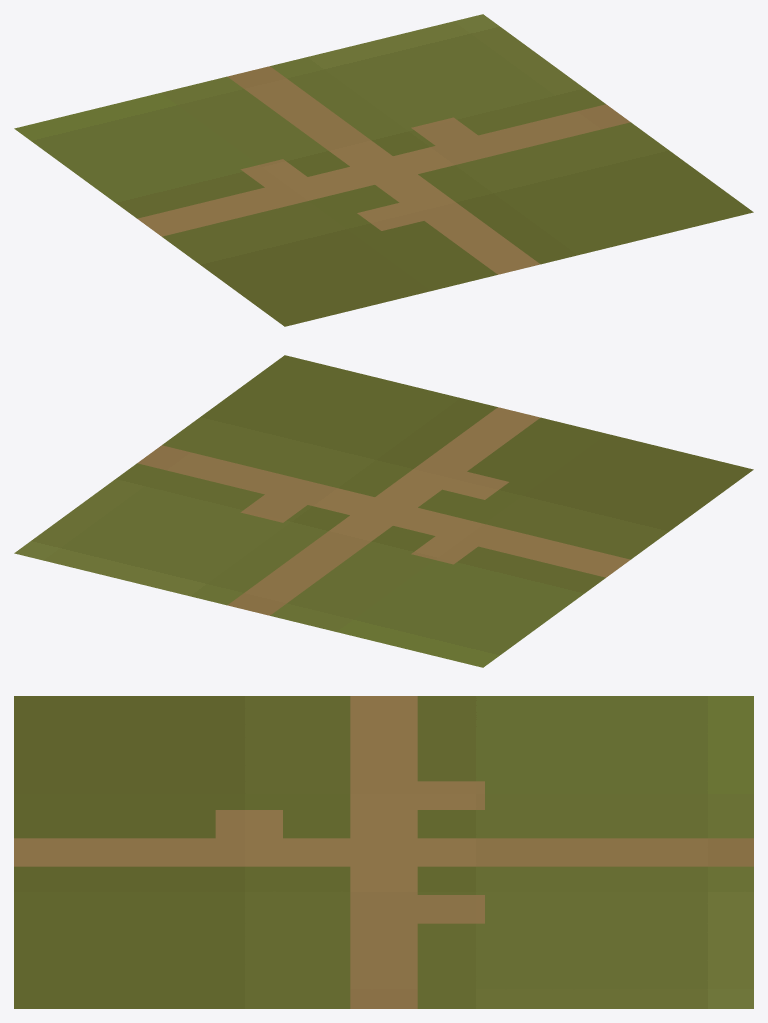
File: PlaceholderTown.fbx
The picture shows the model from 3 angles, top to bottom: view 1: azimuth 30°, elevation 25°; view 2: azimuth 150°, elevation 25°; view 3: azimuth 270°, elevation 25°; orthographic projection. The views are drawn at different scales.
Parts seen in each view (by area): view 1: Plane.001; view 2: Plane.001; view 3: Plane.001.
Boxes of the visible parts, x1=… form: Plane.001: x1=14, y1=14, x2=753, y2=326; Plane.001: x1=14, y1=355, x2=753, y2=667; Plane.001: x1=14, y1=696, x2=753, y2=1008.
Bounding box in the file's own units: 1041 × 0.00017 × 1041.
